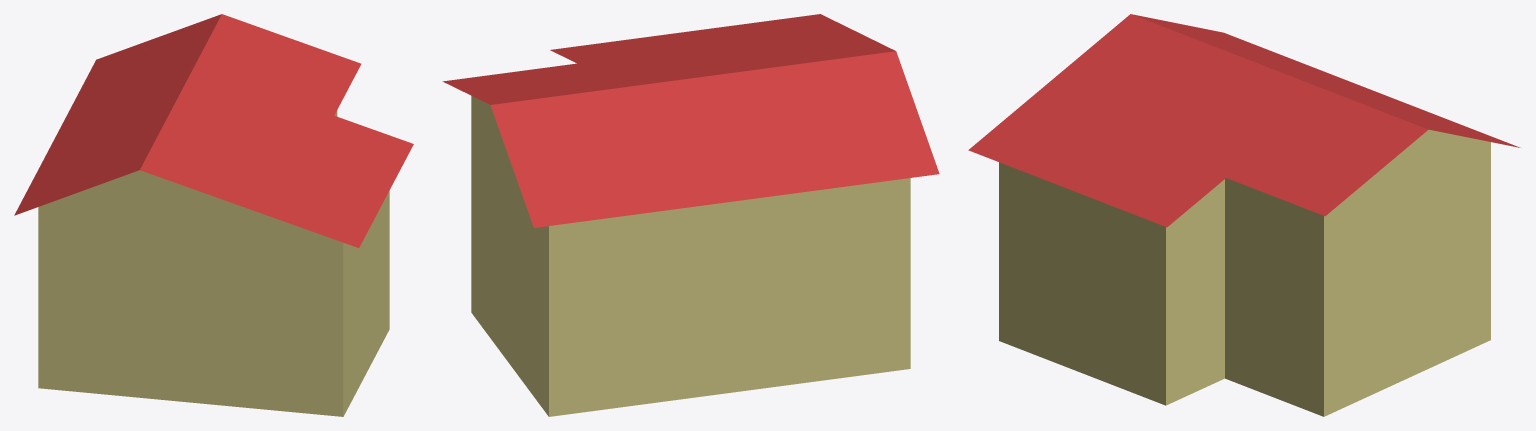
The picture shows the model from 3 angles, left to right: view 1: azimuth 30°, elevation 25°; view 2: azimuth 150°, elevation 25°; view 3: azimuth 270°, elevation 25°; orthographic projection. The views are drawn at different scales.
Size of the model in its own units: 11.14 by 12.64 by 6.37.
